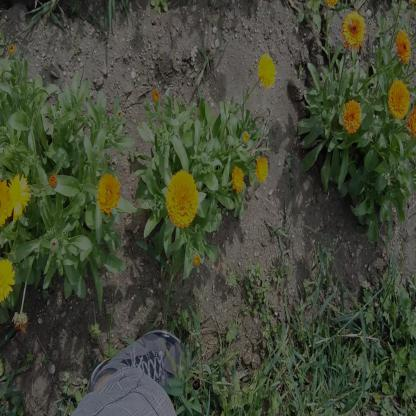marigold: (166, 171, 198, 227), (5, 171, 30, 216), (96, 173, 120, 214), (342, 11, 367, 50), (387, 80, 410, 118), (0, 259, 16, 305), (257, 54, 276, 89), (393, 30, 412, 62), (344, 98, 362, 129), (255, 156, 269, 183), (231, 164, 244, 191)
